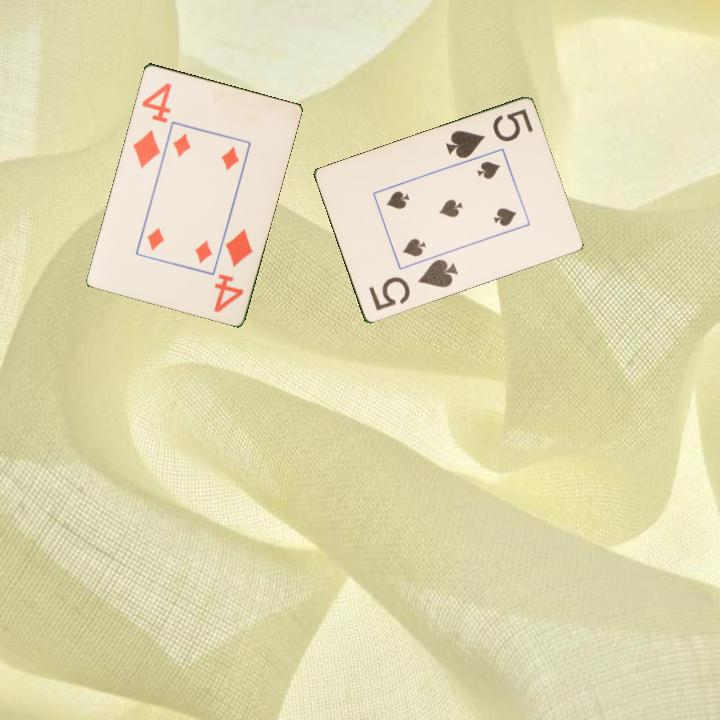4d: (129, 79, 174, 171), (210, 225, 256, 315)
5s: (365, 256, 461, 314), (441, 105, 536, 162)
